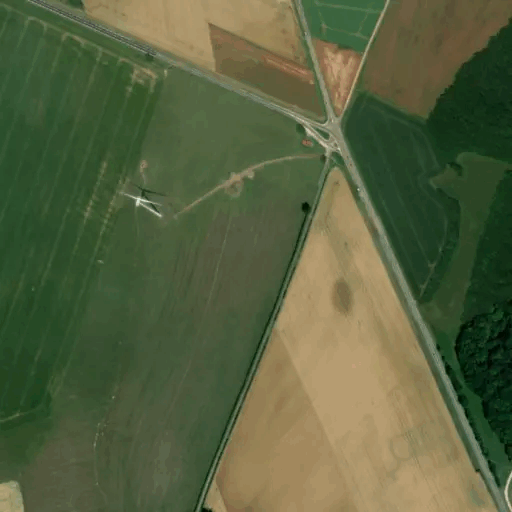wt: (116, 174, 168, 226)
